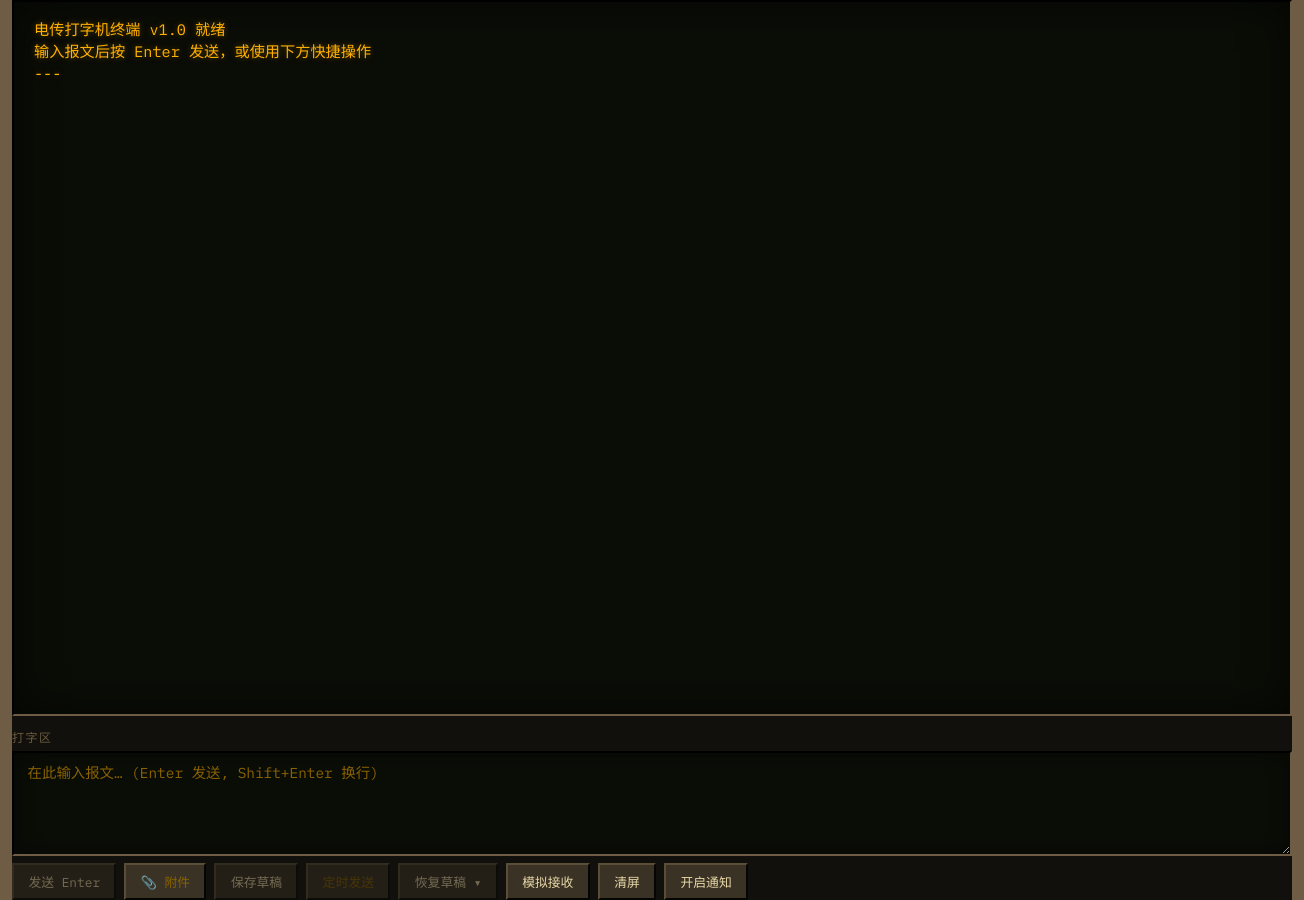
Test case: TerminalPage › 保存草稿功能 › 应该打开保存草稿面板
The image size is (1304, 900).
Type "Draft content" into the text box labelled "打字区". click: (652, 804)
box: x1=12 y1=751 x2=1292 y2=856
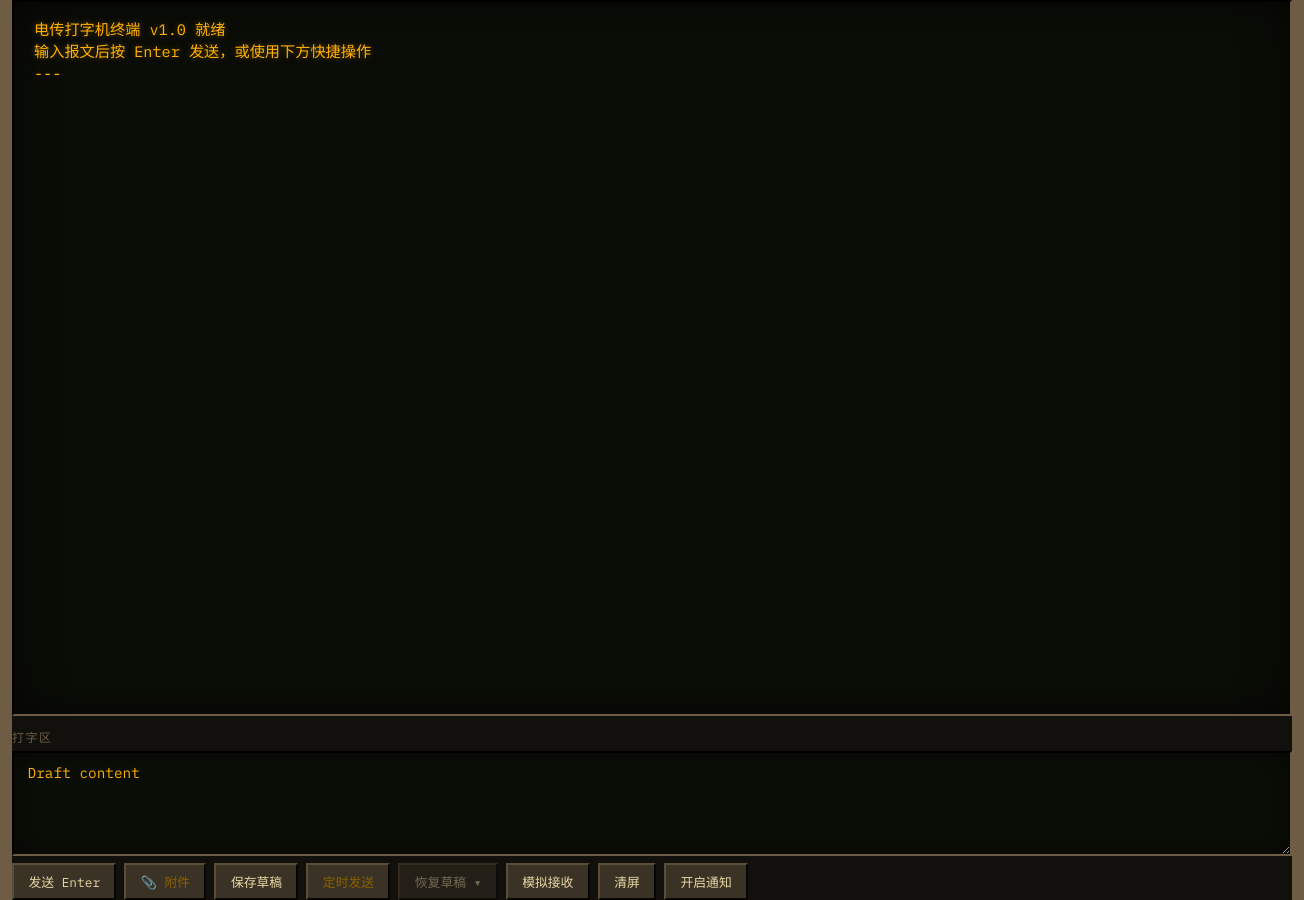
Click the button "保存草稿". click: (256, 881)
box: x1=214 y1=863 x2=298 y2=899
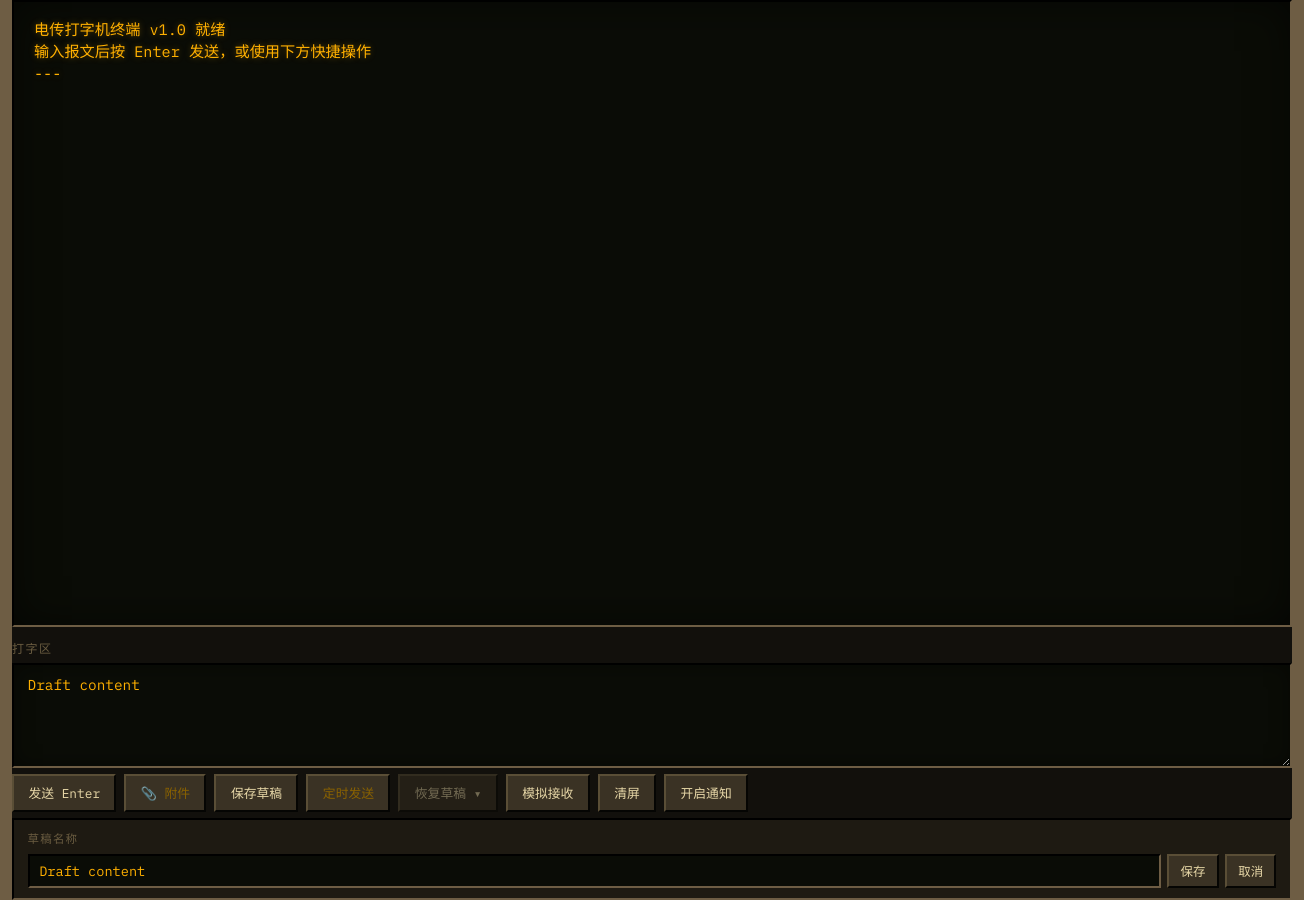
Check: the field labelled "草稿名称" is shown, box x1=28 y1=854 x2=1161 y2=888
